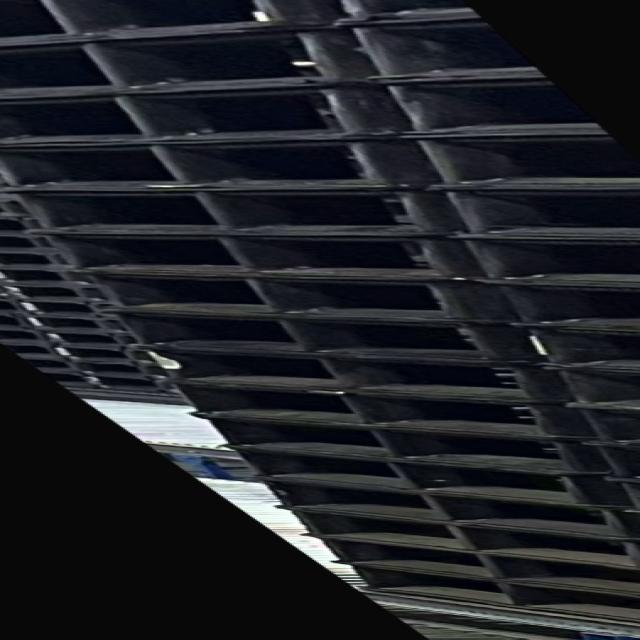igps: (0, 23, 339, 102), (121, 345, 549, 406), (209, 446, 612, 510), (238, 476, 634, 540), (0, 81, 367, 149), (185, 414, 586, 475), (89, 311, 513, 368), (163, 381, 561, 441), (15, 230, 457, 284), (0, 186, 444, 239), (267, 506, 640, 568), (0, 137, 404, 193), (64, 271, 473, 326), (294, 534, 640, 595), (321, 561, 640, 623), (325, 19, 610, 81), (369, 78, 640, 136), (393, 134, 640, 190), (0, 0, 318, 42), (418, 187, 640, 240), (439, 235, 640, 288), (456, 278, 640, 331), (497, 322, 640, 372), (319, 0, 492, 31), (537, 364, 640, 410), (38, 371, 184, 399), (0, 341, 161, 365), (15, 355, 166, 379), (560, 405, 640, 445), (0, 327, 143, 348), (0, 313, 128, 331), (0, 283, 110, 300), (0, 298, 123, 313), (0, 266, 75, 285), (0, 249, 65, 268)
